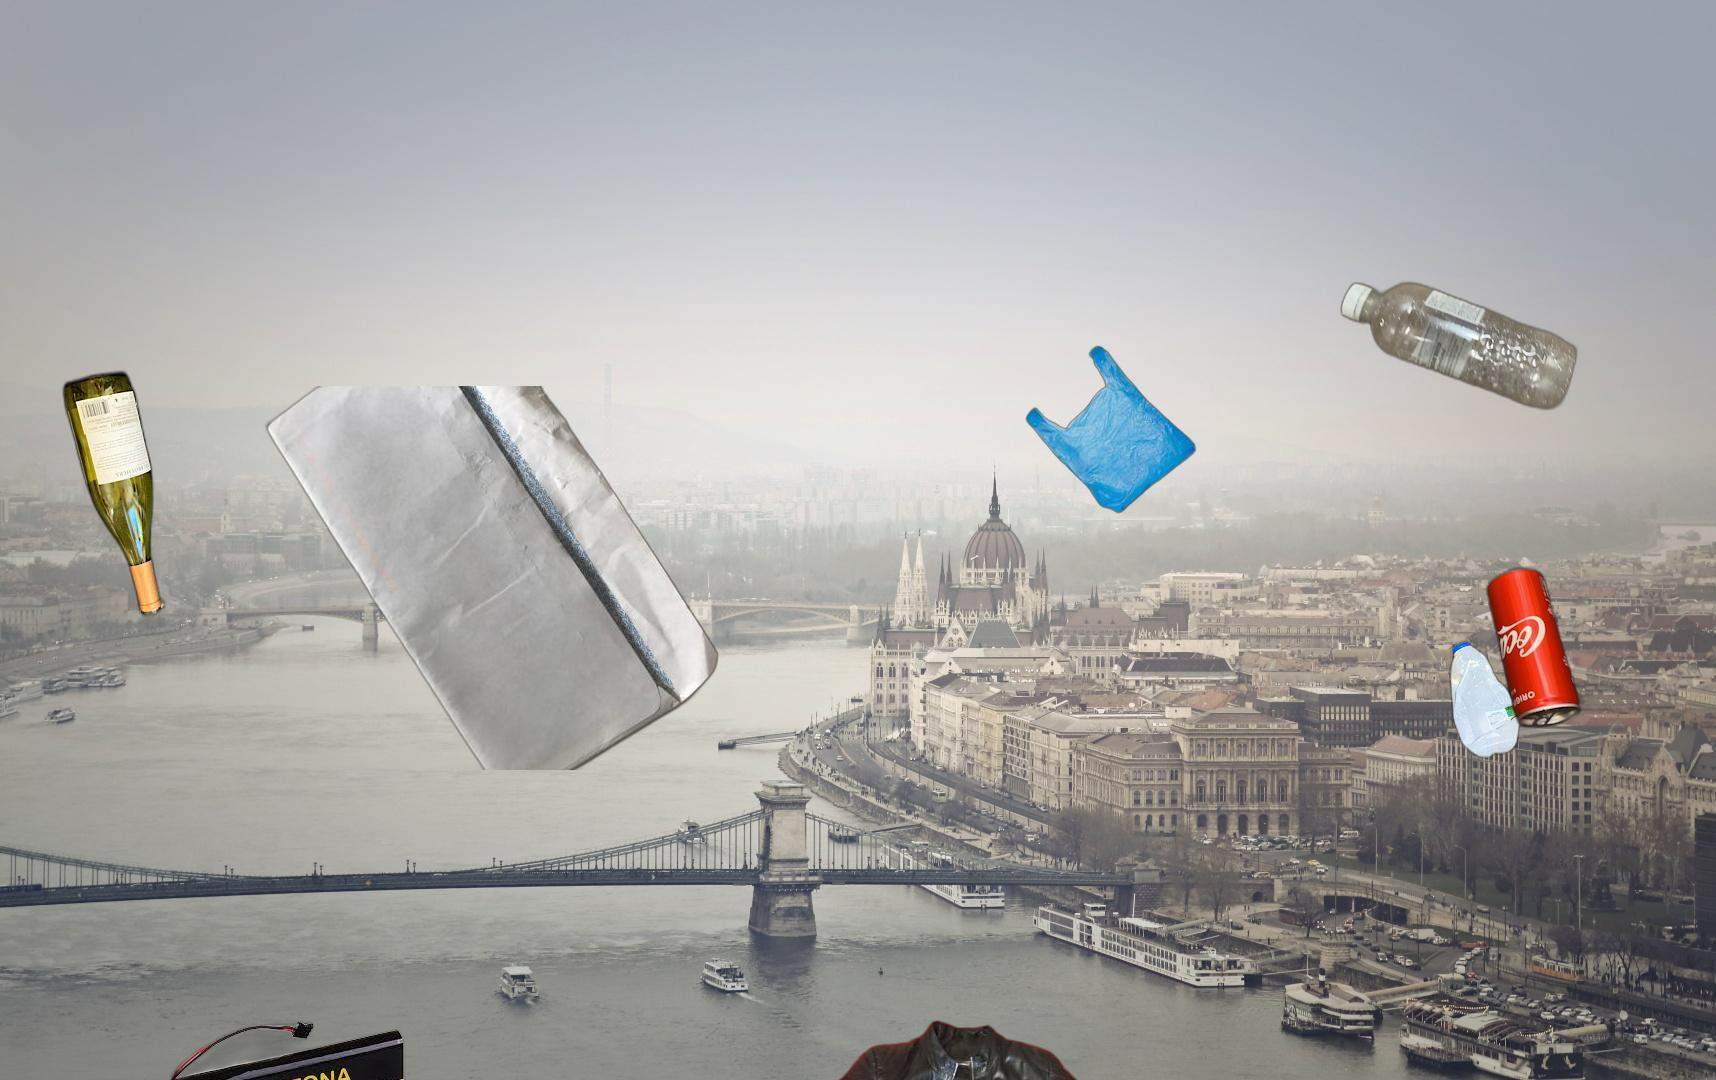battery: (161, 1020, 406, 1080)
clothes: (697, 1017, 1219, 1080)
glass: (58, 366, 170, 621)
metal-cans: (1483, 561, 1587, 732)
paper: (263, 386, 723, 770)
plastic-bag: (1024, 343, 1200, 516)
plastic-bottles: (1336, 277, 1716, 610), (1445, 635, 1526, 764)
